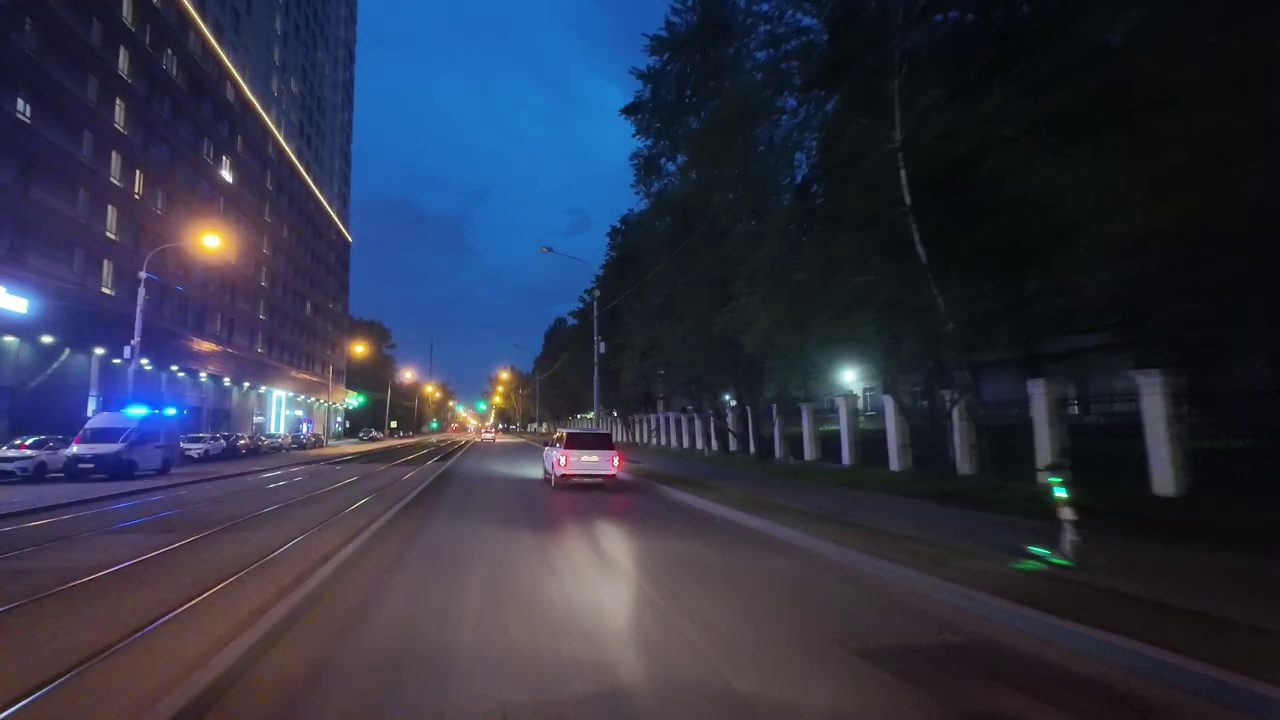acesa: (191, 224, 231, 258), (833, 361, 865, 393), (346, 336, 373, 362), (0, 287, 27, 313)
apagada: (538, 231, 561, 262)
